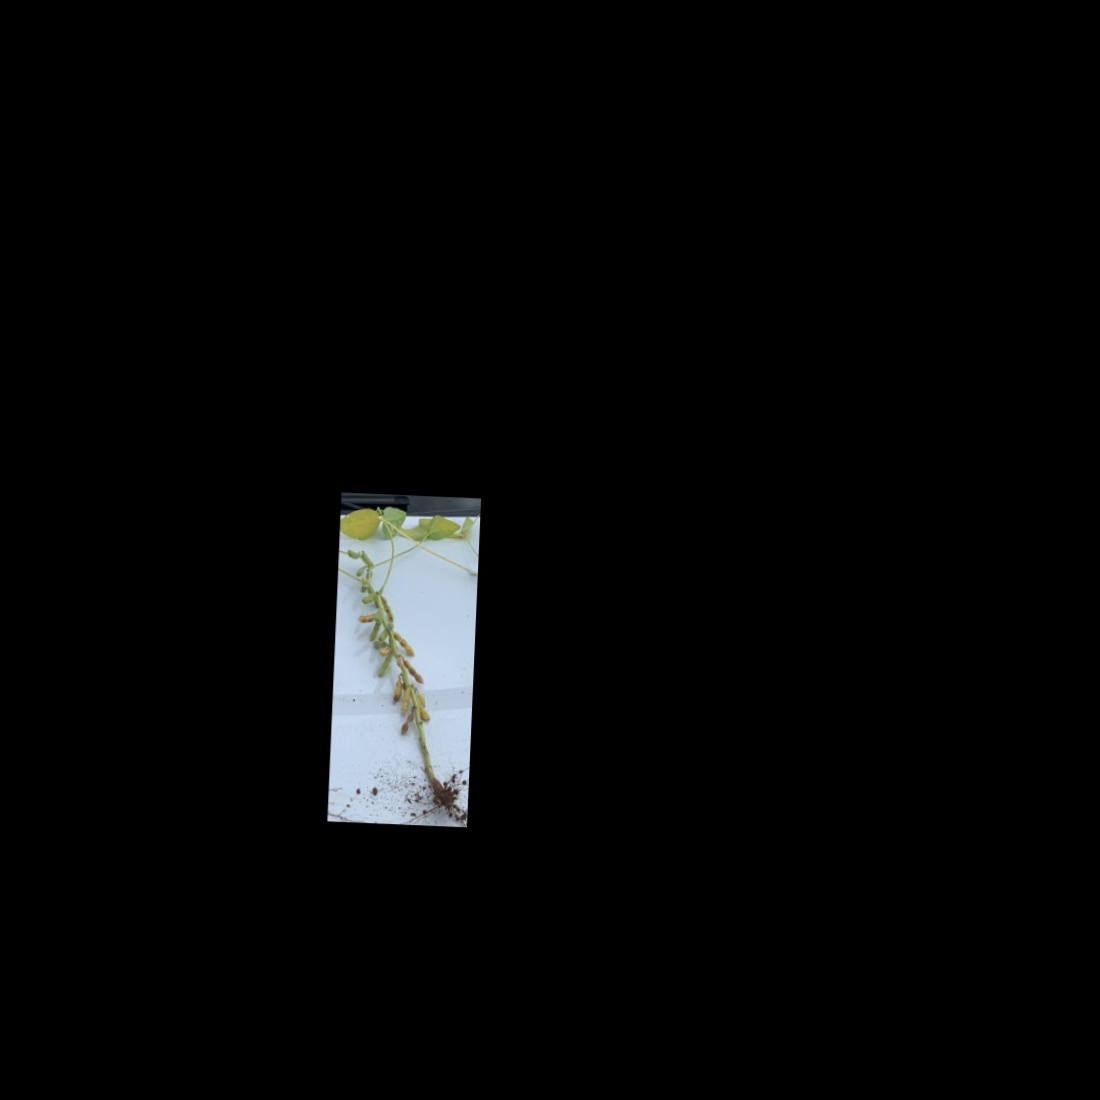pod: (402, 654, 427, 685), (392, 630, 417, 658), (378, 595, 397, 626), (375, 654, 393, 682), (396, 688, 413, 716), (357, 610, 382, 623), (361, 591, 376, 606)
soy: (330, 508, 464, 819)
